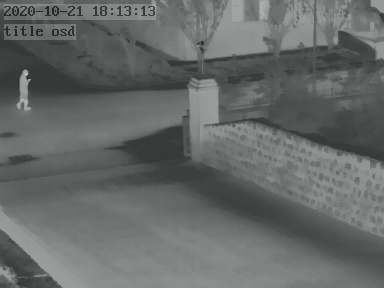person: (15, 66, 31, 109)
